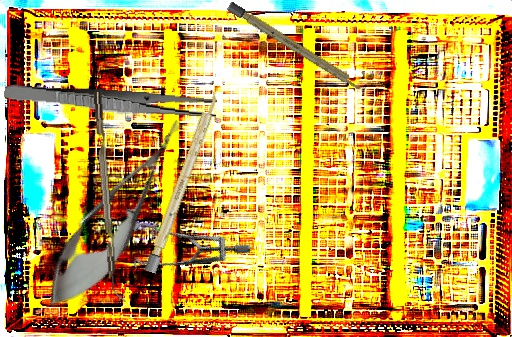Chopper: (93, 90, 127, 304)
Dressing Forceps: (3, 82, 218, 121)
Micro Scissor: (30, 106, 203, 324)
Scalpel Handle: (144, 90, 221, 274), (226, 1, 368, 95)
Speculum: (112, 182, 254, 318)
